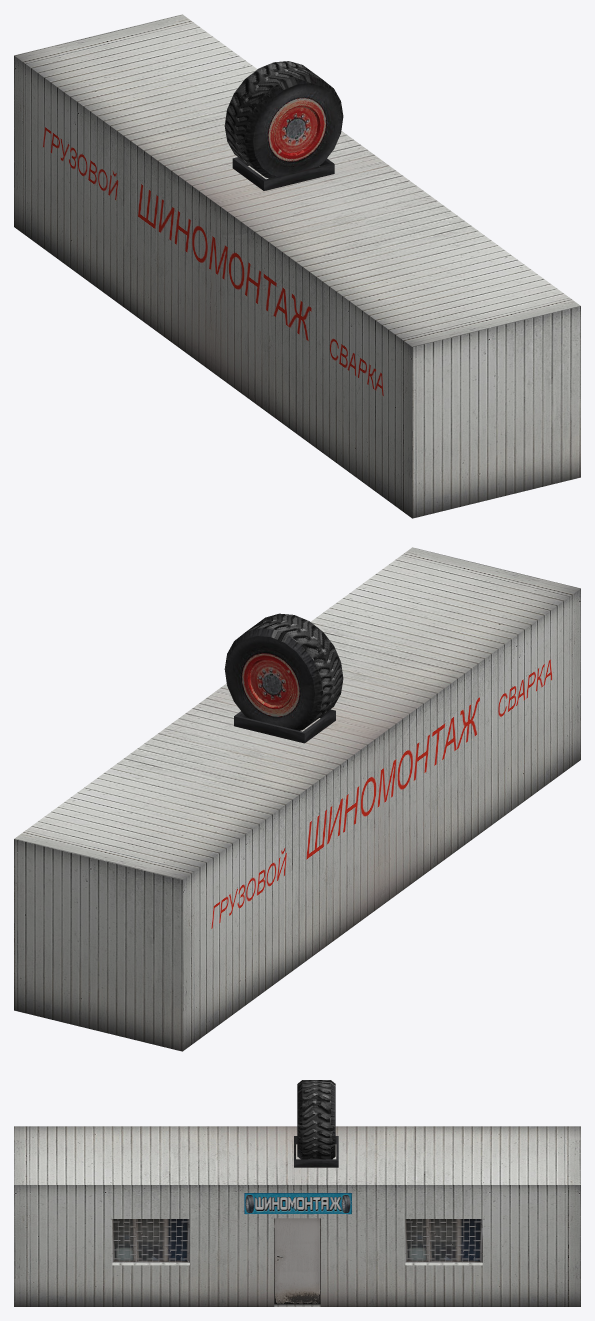
File: r402_ravnec_shinomontaz.FBX
3 views of the same model, one above another, from view 1: azimuth 30°, elevation 25°; view 2: azimuth 150°, elevation 25°; view 3: azimuth 270°, elevation 25° (orthographic). The views are drawn at different scales.
Visible parts, largest first — view 1: r402_ravnec_shinomontaz; view 2: r402_ravnec_shinomontaz; view 3: r402_ravnec_shinomontaz.
Part boxes in pixels (bbox=[...]): r402_ravnec_shinomontaz: bbox=[14, 14, 580, 518]; r402_ravnec_shinomontaz: bbox=[14, 547, 580, 1051]; r402_ravnec_shinomontaz: bbox=[14, 1080, 580, 1306].
Size of the model in its own units: 298 by 1219 by 461.
